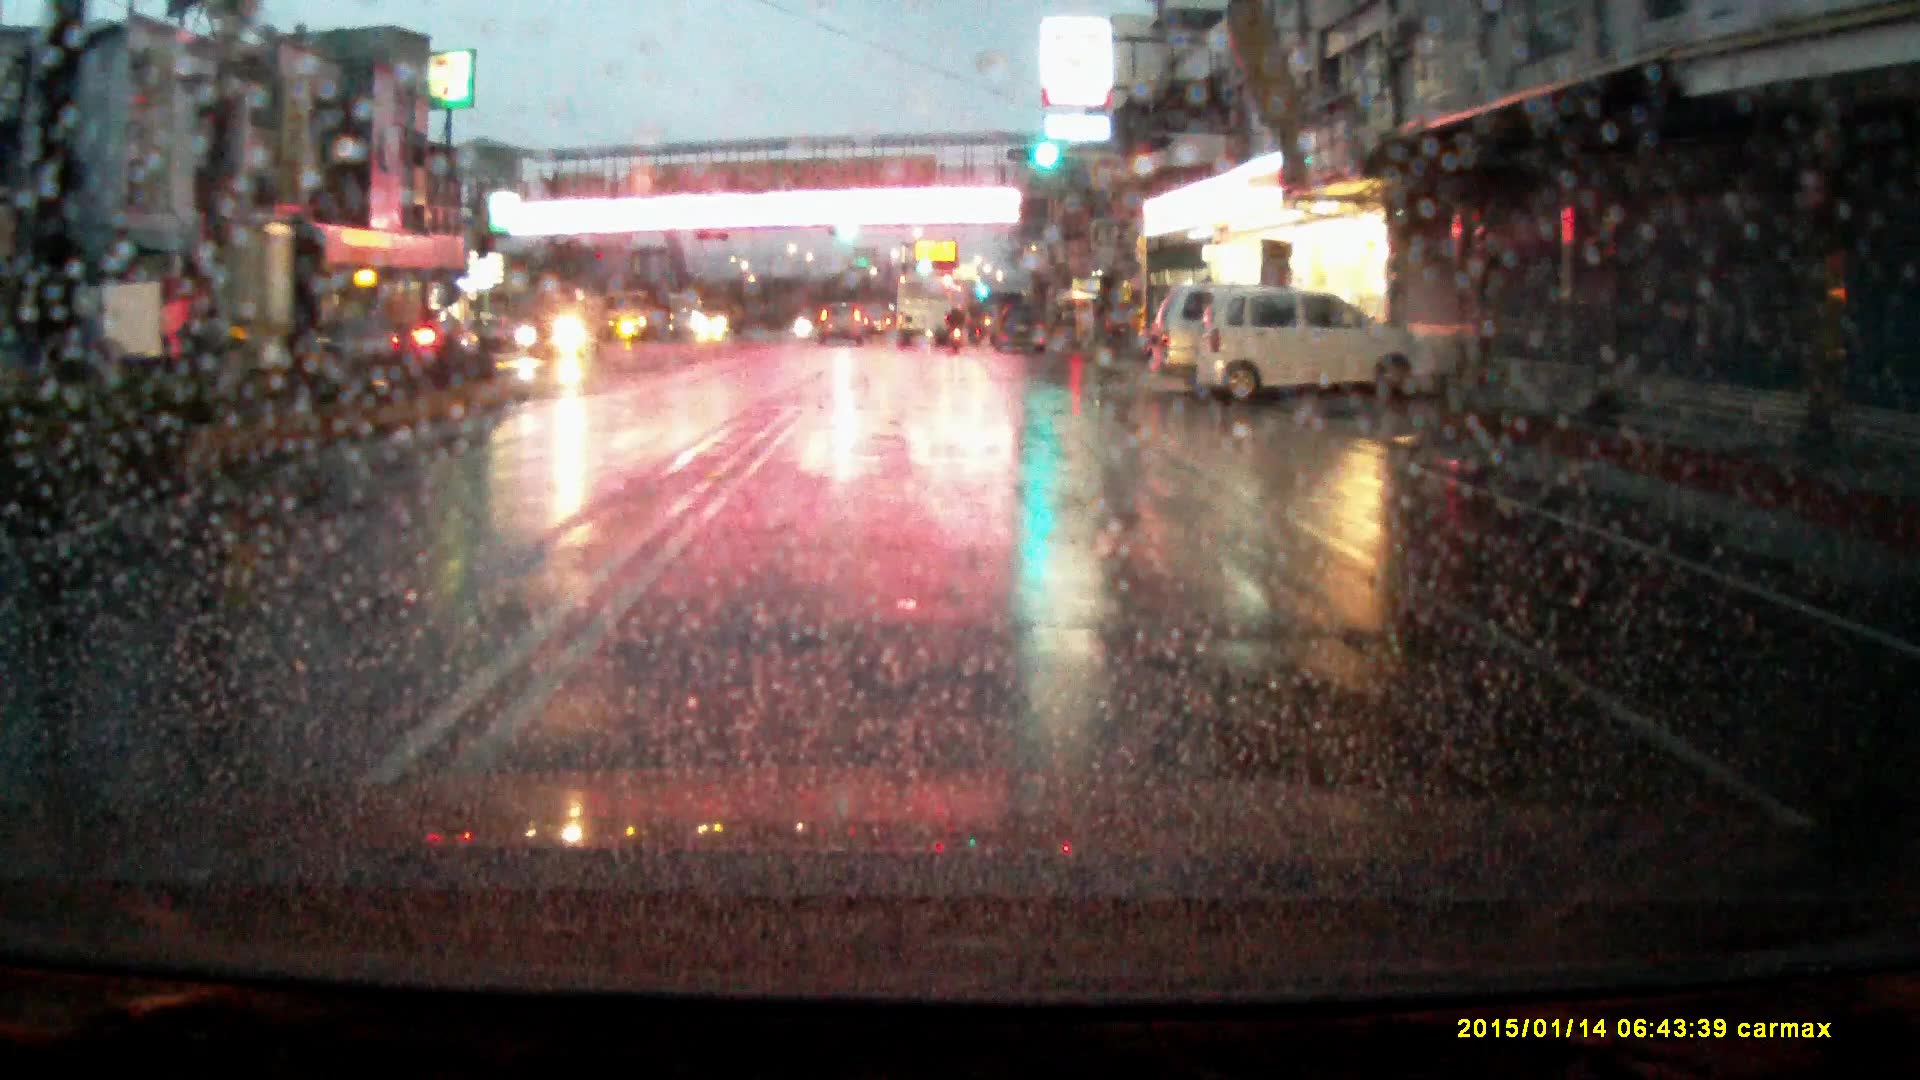rider: (946, 310, 967, 362)
vehicle: (1199, 293, 1449, 418), (1149, 285, 1301, 395), (15, 284, 166, 383), (514, 294, 609, 363), (898, 277, 951, 345), (989, 303, 1052, 357), (692, 298, 746, 341), (819, 304, 866, 348)
